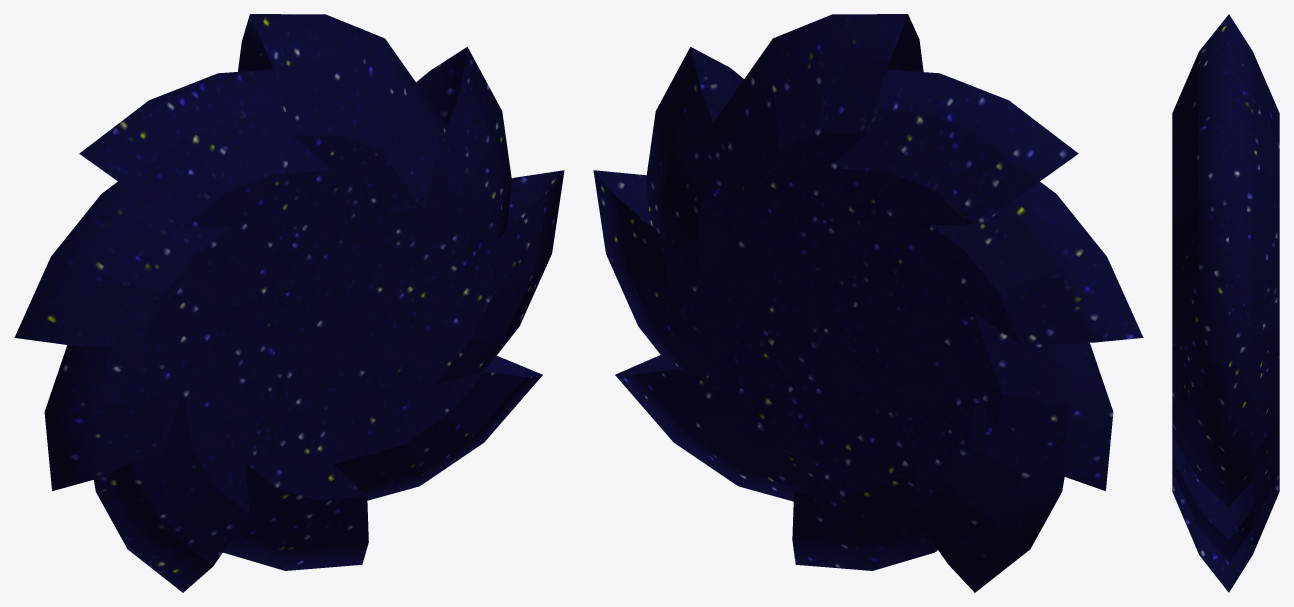
The model's file is SM_Tex_Portal.fbx.
3 views of the same model, side by side, from view 1: azimuth 30°, elevation 25°; view 2: azimuth 150°, elevation 25°; view 3: azimuth 270°, elevation 25° (orthographic). The views are drawn at different scales.
Visible parts, largest first — view 1: Box001; view 2: Box001; view 3: Box001.
Part boxes in pixels (left/top/right/bottom): Box001: left=14, top=14, right=564, bottom=592; Box001: left=593, top=14, right=1143, bottom=592; Box001: left=1172, top=14, right=1279, bottom=592.
Bounding box in the file's own units: 47.3 × 47.51 × 8.73.
